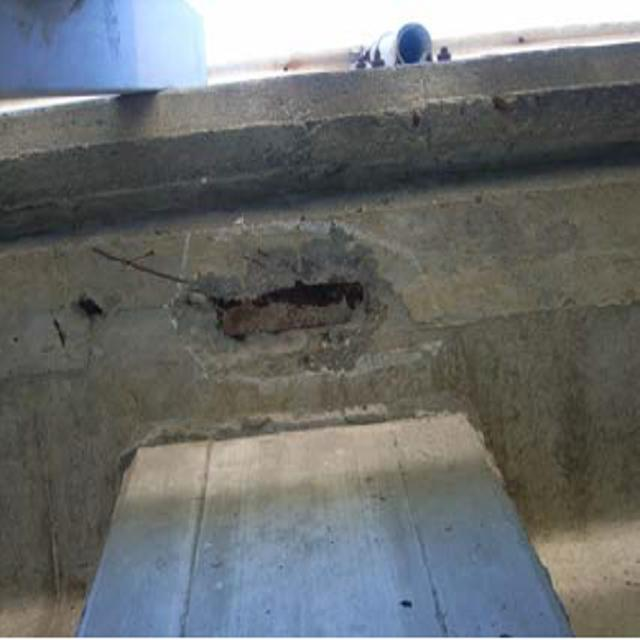spalling: (162, 216, 398, 370)
